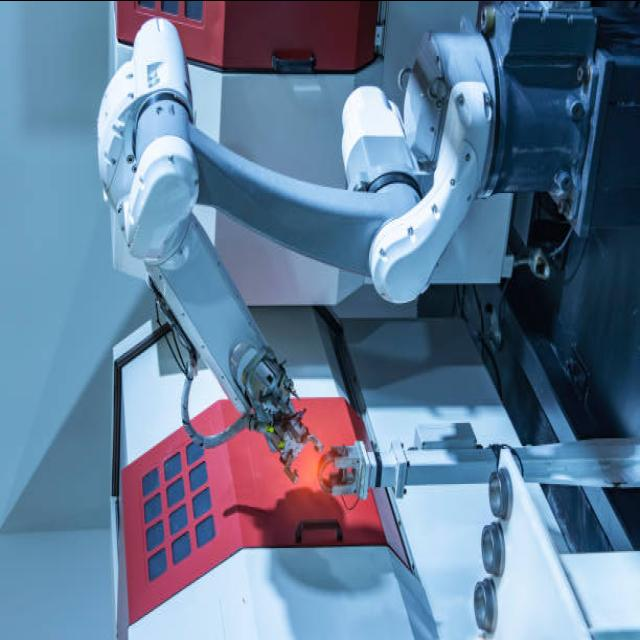Robotic-arm: (92, 16, 504, 463)
